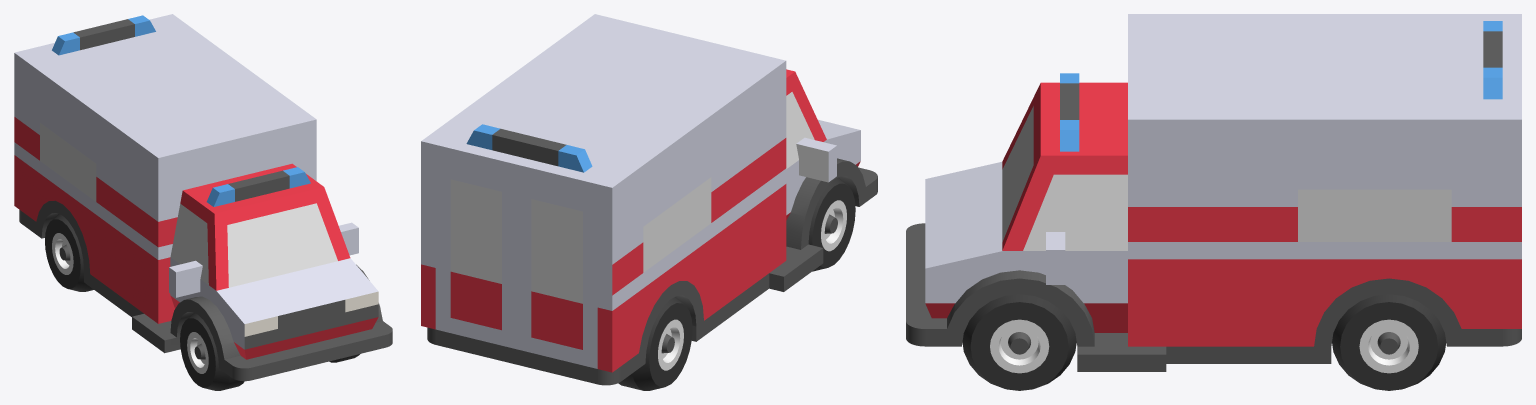
Rendered from ambulance.fbx.
The picture shows the model from 3 angles, left to right: view 1: azimuth 30°, elevation 25°; view 2: azimuth 150°, elevation 25°; view 3: azimuth 270°, elevation 25°; orthographic projection. The views are drawn at different scales.
Parts seen in each view (by area): view 1: body, wheel_frontRight, wheel_backRight; view 2: body, doorLeft, doorRight, wheel_backRight, wheel_frontRight; view 3: body, wheel_frontLeft, wheel_backLeft.
Boxes of the visible parts, x1=… form: body: x1=14, y1=14, x2=392, y2=381; wheel_frontRight: x1=180, y1=313, x2=244, y2=390; wheel_backRight: x1=45, y1=214, x2=93, y2=291; body: x1=421, y1=14, x2=877, y2=385; doorLeft: x1=435, y1=160, x2=516, y2=349; doorRight: x1=516, y1=180, x2=597, y2=368; wheel_backRight: x1=618, y1=297, x2=692, y2=390; wheel_frontRight: x1=808, y1=177, x2=855, y2=271; body: x1=906, y1=14, x2=1521, y2=371; wheel_frontLeft: x1=962, y1=294, x2=1076, y2=390; wheel_backLeft: x1=1332, y1=294, x2=1446, y2=390.
Size of the model in its own units: 15 by 17 by 32.
